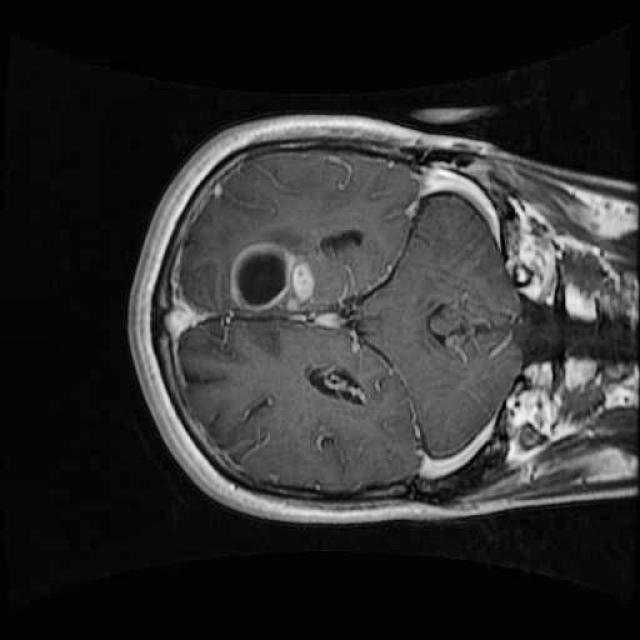Non-Tumor: (218, 225, 328, 324)
